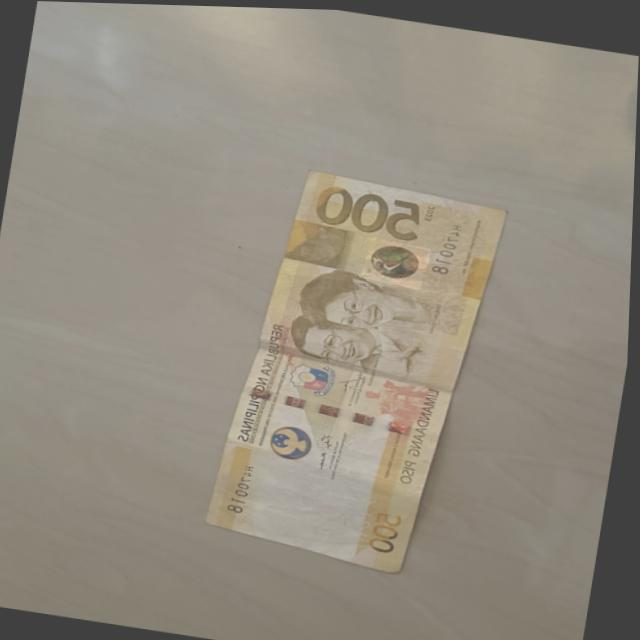concealed_value: (297, 225, 353, 268)
optically_variable_device: (369, 237, 429, 279)
serial_number: (216, 445, 267, 522), (428, 210, 476, 279)
value: (302, 176, 435, 246)
